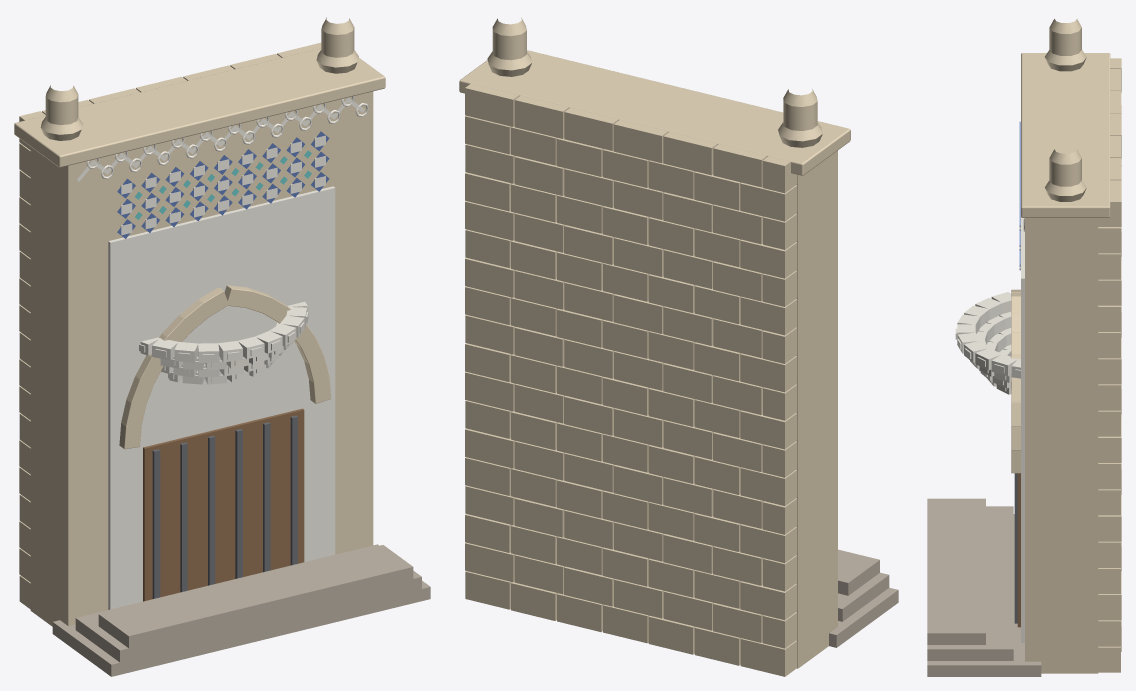
3 views of the same model, side by side, from view 1: azimuth 30°, elevation 25°; view 2: azimuth 150°, elevation 25°; view 3: azimuth 270°, elevation 25° (orthographic). The views are drawn at different scales.
Visible parts, largest first — view 1: stepped-entrance-portal; view 2: stepped-entrance-portal; view 3: stepped-entrance-portal.
Part boxes in pixels (bbox=[...]): stepped-entrance-portal: bbox=[14, 17, 430, 676]; stepped-entrance-portal: bbox=[459, 17, 898, 676]; stepped-entrance-portal: bbox=[927, 19, 1121, 676].
Size of the model in its own units: 4.5 by 7.02 by 2.39.
